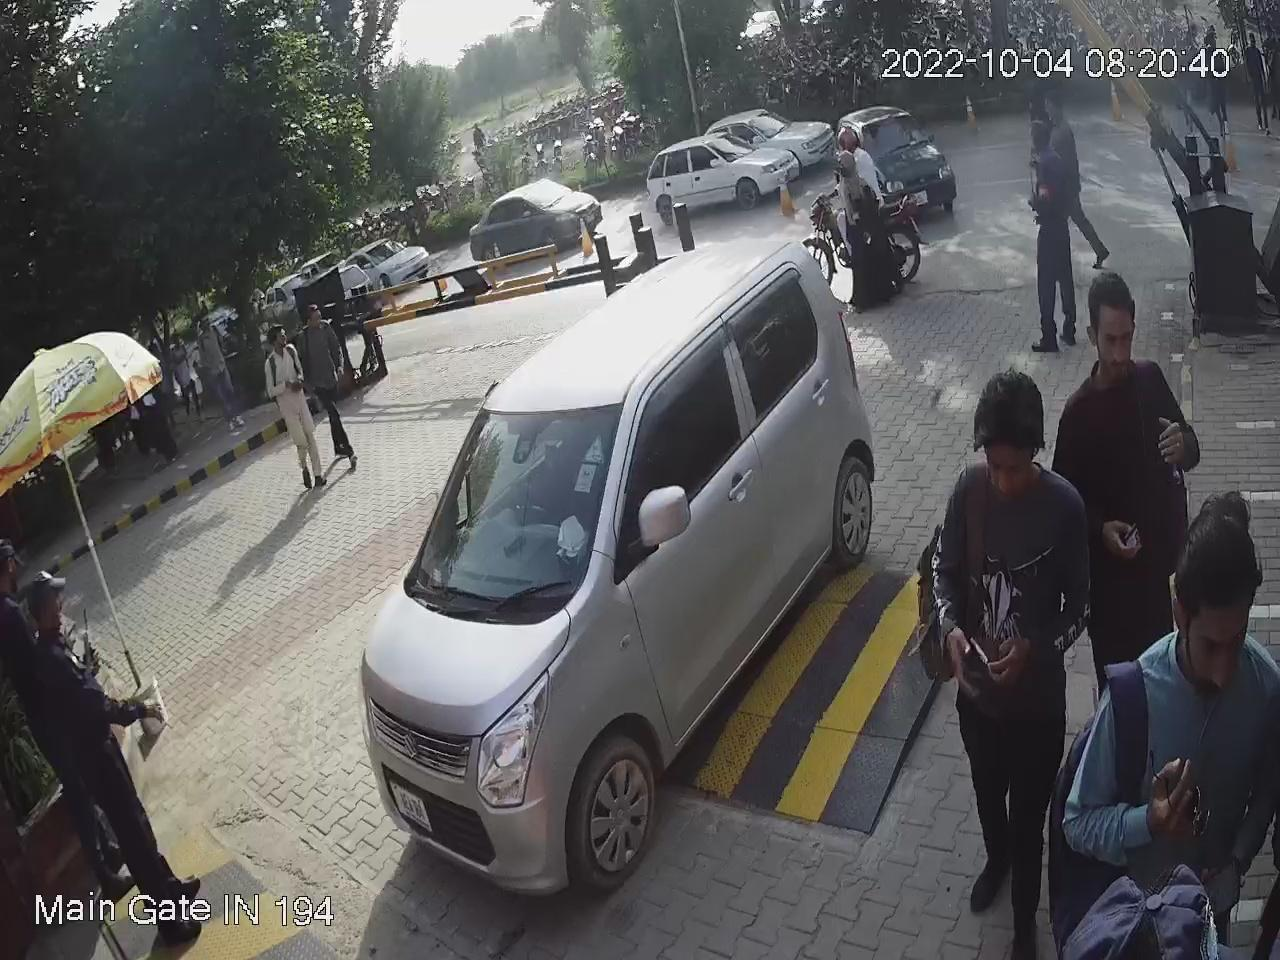windshield: (413, 387, 628, 605)
